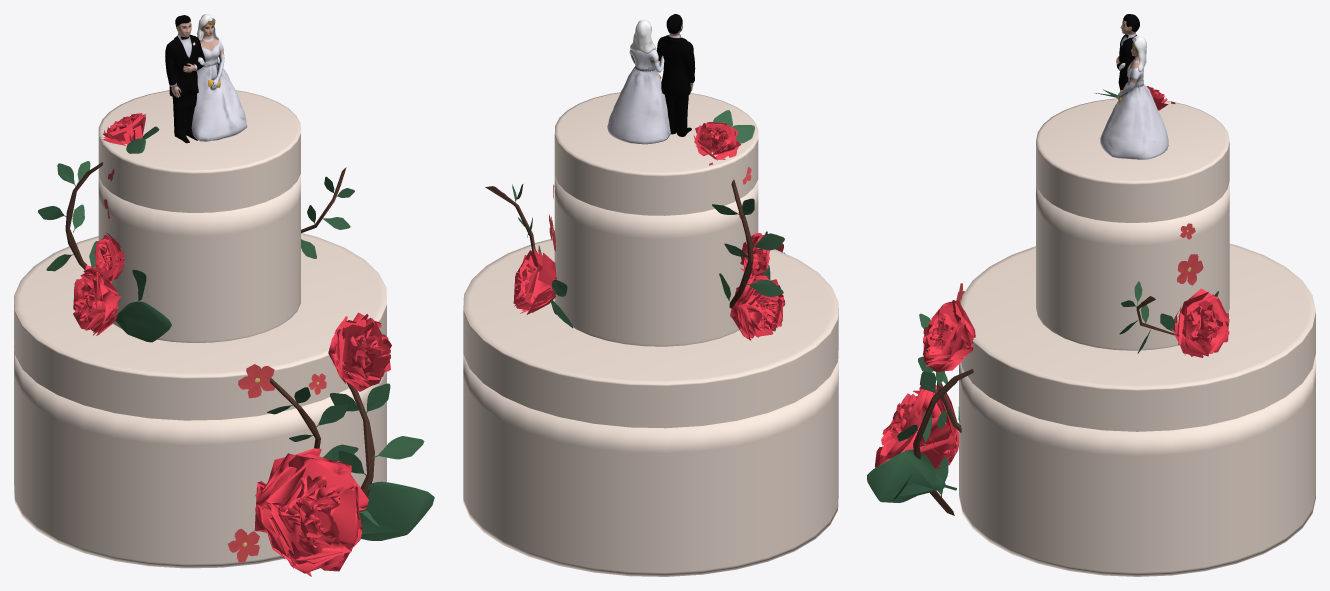
The model's file is 2-tier-white-roses-bridegroom.glb.
The picture shows the model from 3 angles, left to right: view 1: azimuth 30°, elevation 25°; view 2: azimuth 150°, elevation 25°; view 3: azimuth 270°, elevation 25°; orthographic projection. The views are drawn at different scales.
Visible parts, largest first — view 1: Cylinder.023, Cylinder.013, grid.025, 13501_Cake_Topper_Bride_Groom_v1_L1.003, grid.024, Plane.049, Plane.059, grid.026, Plane.056, Plane.058, Plane.052, Plane.045 (+4 smaller); view 2: Cylinder.023, Cylinder.013, 13501_Cake_Topper_Bride_Groom_v1_L1.003, grid.026, Plane.056, grid.028, grid.014, grid.027, Plane.045; view 3: Cylinder.023, Cylinder.013, 13501_Cake_Topper_Bride_Groom_v1_L1.003, grid.025, grid.028, Plane.049, grid.024, Plane.059, Plane.045, Plane.058.
Boxes of the visible parts, bbox=[...] form: Cylinder.023: bbox=[14, 233, 386, 568]; Cylinder.013: bbox=[98, 90, 300, 342]; grid.025: bbox=[254, 448, 368, 576]; 13501_Cake_Topper_Bride_Groom_v1_L1.003: bbox=[165, 14, 247, 143]; grid.024: bbox=[328, 312, 391, 391]; Plane.049: bbox=[359, 481, 434, 540]; Plane.059: bbox=[330, 383, 424, 526]; grid.026: bbox=[73, 264, 121, 335]; Plane.056: bbox=[38, 161, 102, 271]; Plane.058: bbox=[267, 378, 358, 461]; Plane.052: bbox=[115, 301, 171, 342]; Plane.045: bbox=[301, 167, 354, 258]; Cylinder.023: bbox=[463, 239, 838, 576]; Cylinder.013: bbox=[554, 92, 758, 346]; 13501_Cake_Topper_Bride_Groom_v1_L1.003: bbox=[607, 14, 695, 144]; grid.026: bbox=[730, 275, 785, 340]; Plane.056: bbox=[712, 179, 784, 308]; grid.028: bbox=[513, 248, 556, 314]; grid.014: bbox=[693, 122, 741, 160]; grid.027: bbox=[740, 233, 769, 280]; Plane.045: bbox=[485, 184, 541, 254]; Cylinder.023: bbox=[959, 244, 1315, 576]; Cylinder.013: bbox=[1036, 98, 1229, 350]; 13501_Cake_Topper_Bride_Groom_v1_L1.003: bbox=[1100, 14, 1168, 159]; grid.025: bbox=[875, 383, 958, 468]; grid.028: bbox=[1171, 288, 1229, 357]; Plane.049: bbox=[867, 449, 956, 502]; grid.024: bbox=[922, 300, 975, 371]; Plane.059: bbox=[893, 369, 973, 515]; Plane.045: bbox=[1119, 281, 1179, 353]; Plane.058: bbox=[918, 313, 961, 432].
Size of the model in its own units: 3.4 by 4.92 by 4.11.
Materials: 7 (1 with a texture image).
